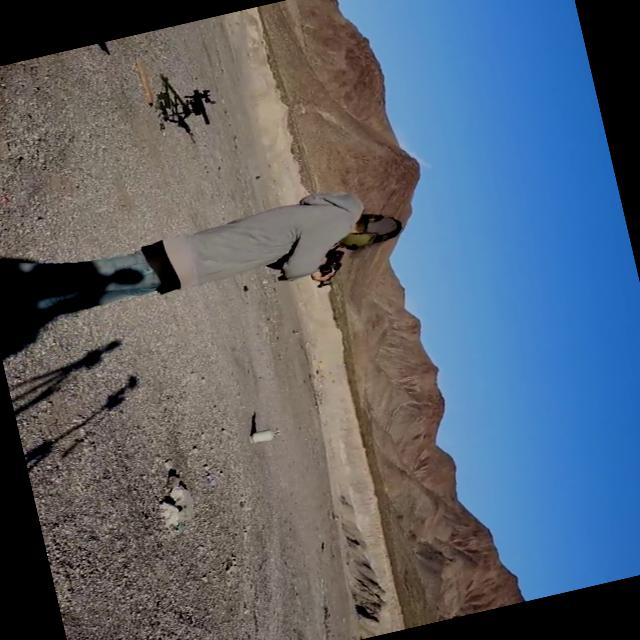long weapon: (155, 74, 238, 140), (276, 238, 354, 302)
